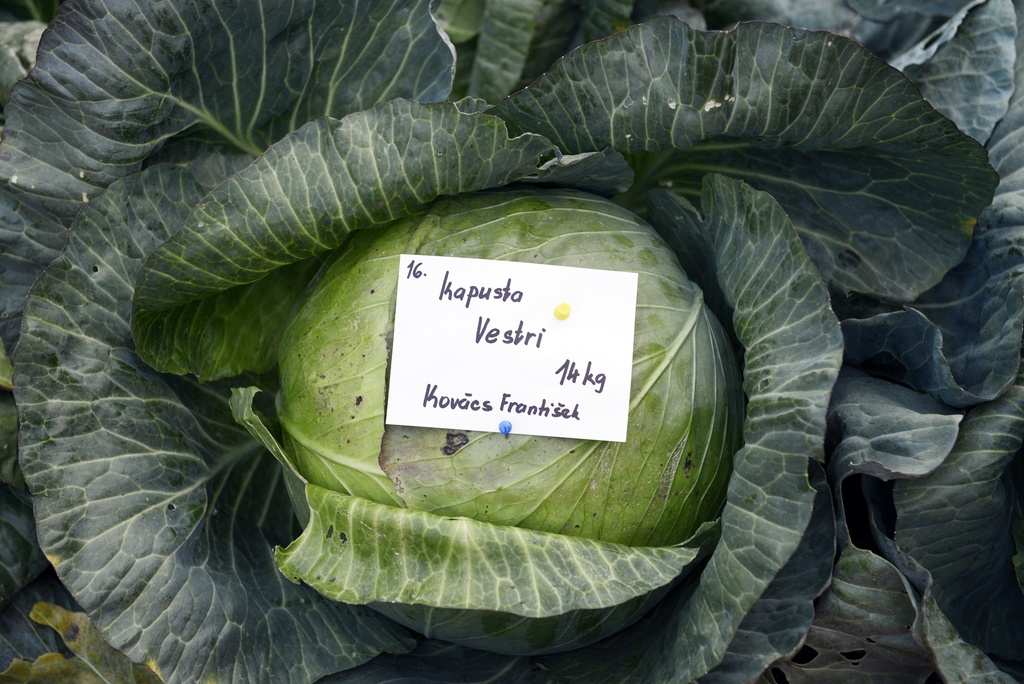Cabbage: (226, 181, 749, 657)
